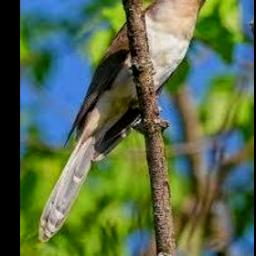Cuckoo: (37, 0, 221, 242)
